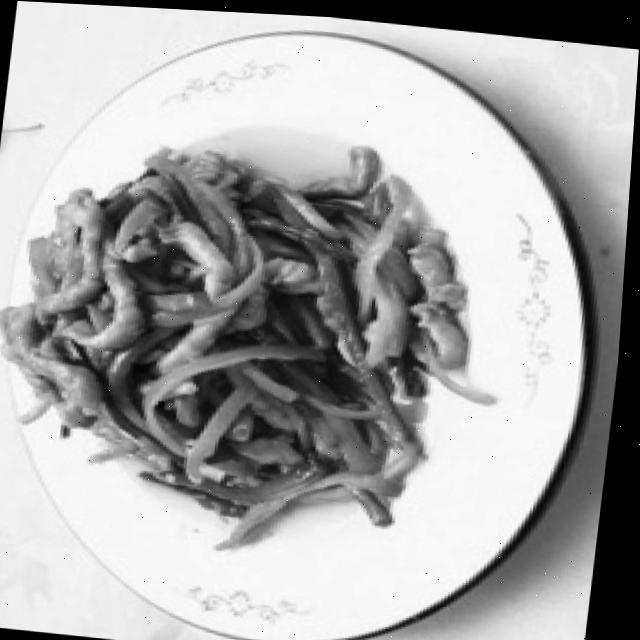牛肉菜式: (0, 105, 537, 588)
